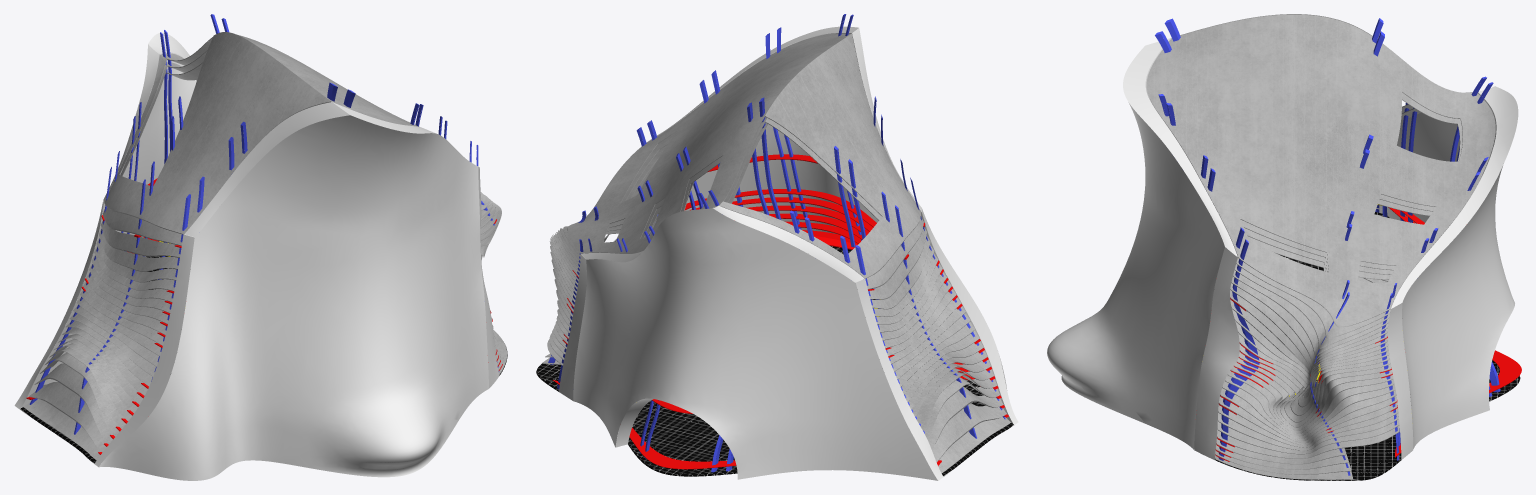
3 renders of one model, left to right at view 1: azimuth 30°, elevation 25°; view 2: azimuth 150°, elevation 25°; view 3: azimuth 270°, elevation 25°, orthographic. The views are drawn at different scales.
Visible parts, largest first — view 1: Merged Objects 3, Group 1, FUP-EXPOERIENCE-re, Merged Objects 2, Merged Objects 6; view 2: Merged Objects 3, Group 1, FUP-EXPOERIENCE-re, Merged Objects 6, Merged Objects 2; view 3: Group 1, Merged Objects 3, Merged Objects 2, FUP-EXPOERIENCE-re, Merged Objects 6.
Boxes of the visible parts, box(x1,y1,x2,y2) form: Merged Objects 3: box(14, 32, 499, 480); Group 1: box(23, 32, 489, 460); FUP-EXPOERIENCE-re: box(26, 14, 502, 454); Merged Objects 2: box(480, 199, 507, 374); Merged Objects 6: box(20, 256, 507, 463); Merged Objects 3: box(559, 26, 1018, 480); Group 1: box(558, 33, 1010, 473); FUP-EXPOERIENCE-re: box(548, 14, 1008, 472); Merged Objects 6: box(536, 246, 1013, 476); Merged Objects 2: box(541, 223, 975, 405); Group 1: box(1146, 14, 1495, 358); Merged Objects 3: box(1047, 38, 1518, 459); Merged Objects 2: box(1215, 276, 1399, 479); FUP-EXPOERIENCE-re: box(1155, 18, 1521, 475); Merged Objects 6: box(1215, 212, 1520, 480).
Bounding box in the file's own units: 41.68 × 31.75 × 39.03.
Materials: 6 (2 with a texture image).
